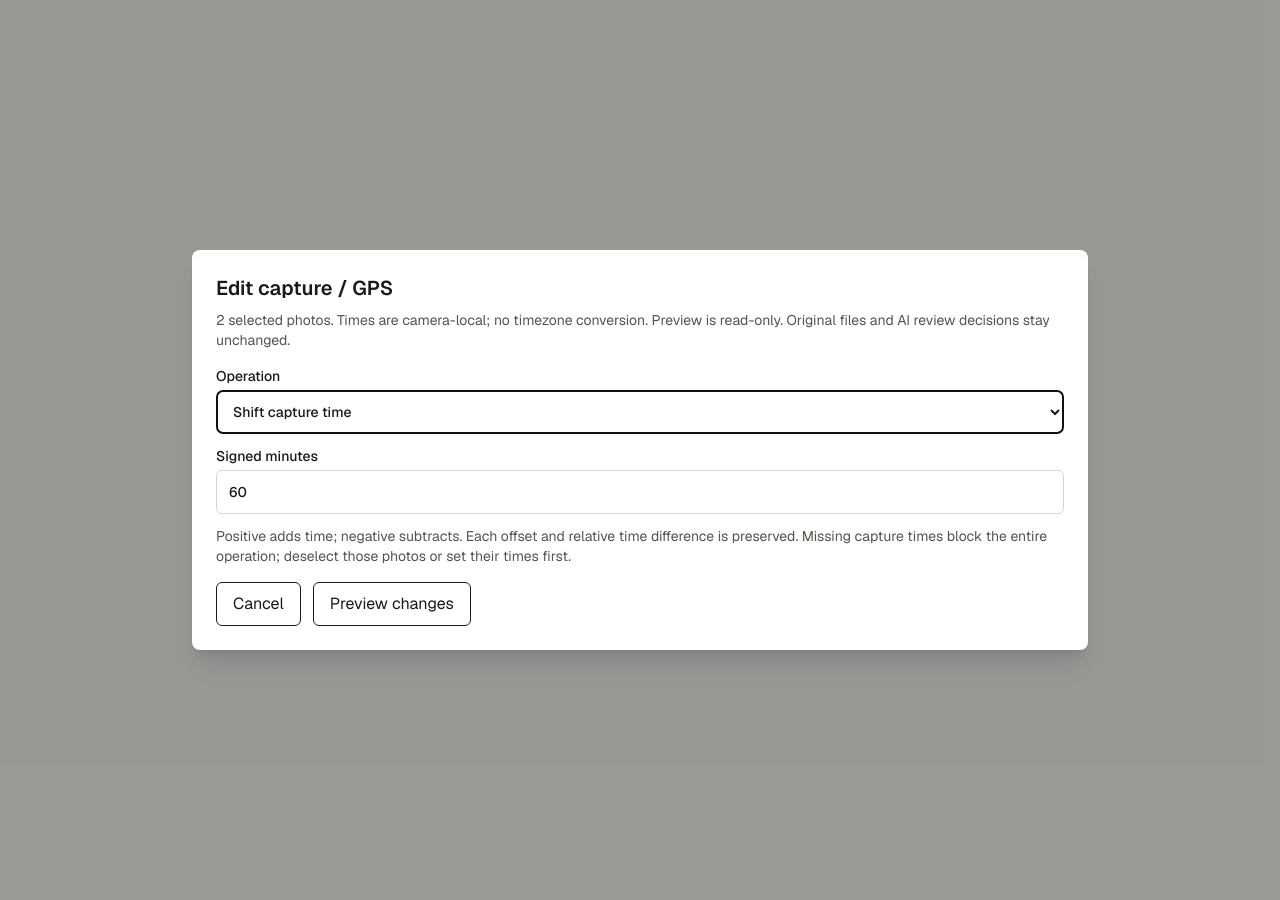
Test: operation restore_original sends typed values
Select "Restore original metadata" in the dropdown labelled "Operation". click: (640, 412)
box: [216,390,1064,434]
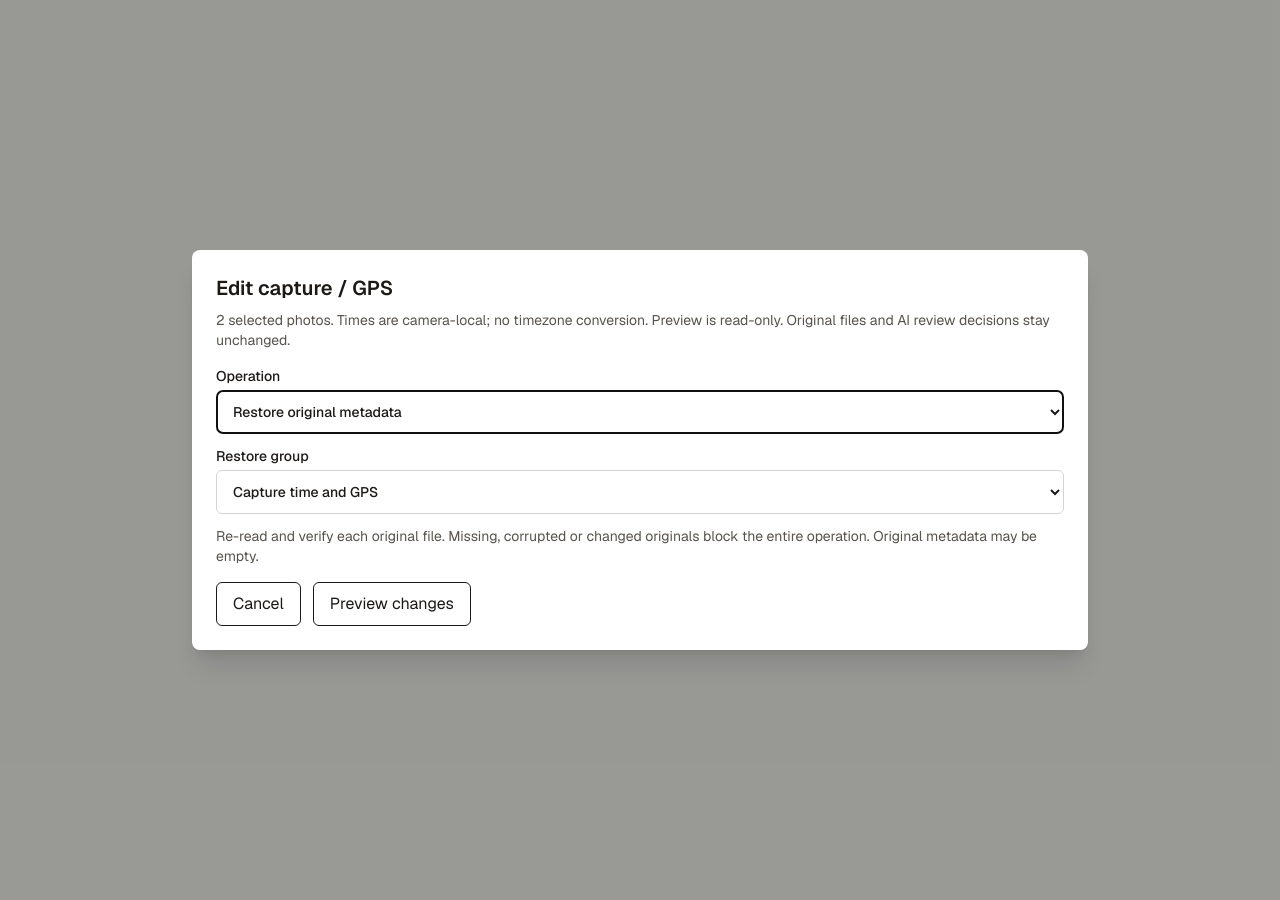
Select "Capture time only" in the dropdown labelled "Restore group". click: (640, 492)
box: [216,470,1064,514]
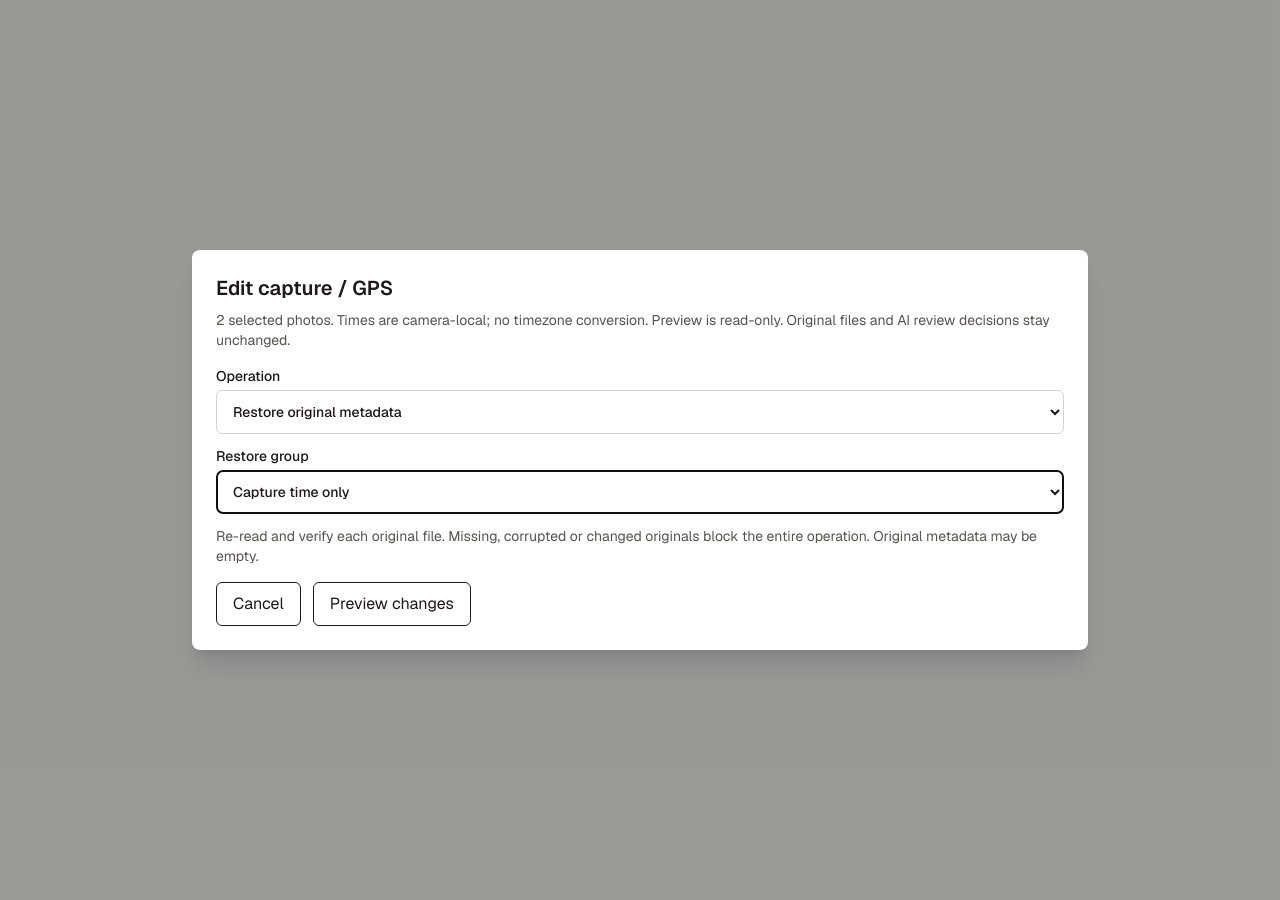
Click the button "Preview changes". click: click(392, 604)
box: [313,582,471,626]
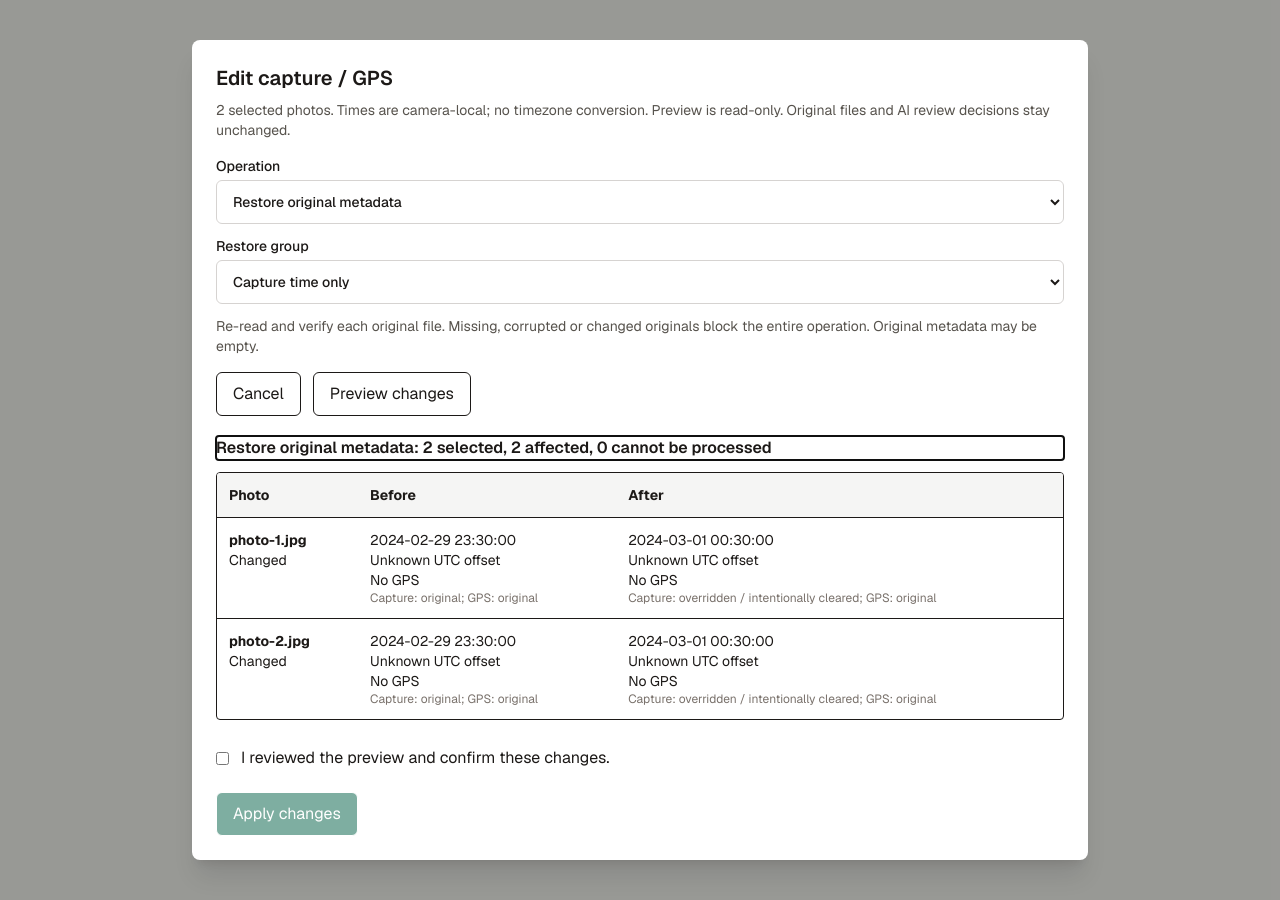
Check: the table is shown, box [217,473,1063,719]
